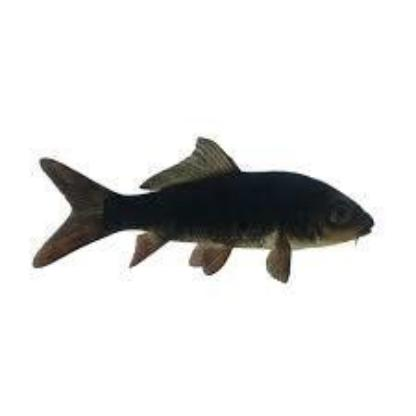ikan-mas: (32, 138, 382, 286)
